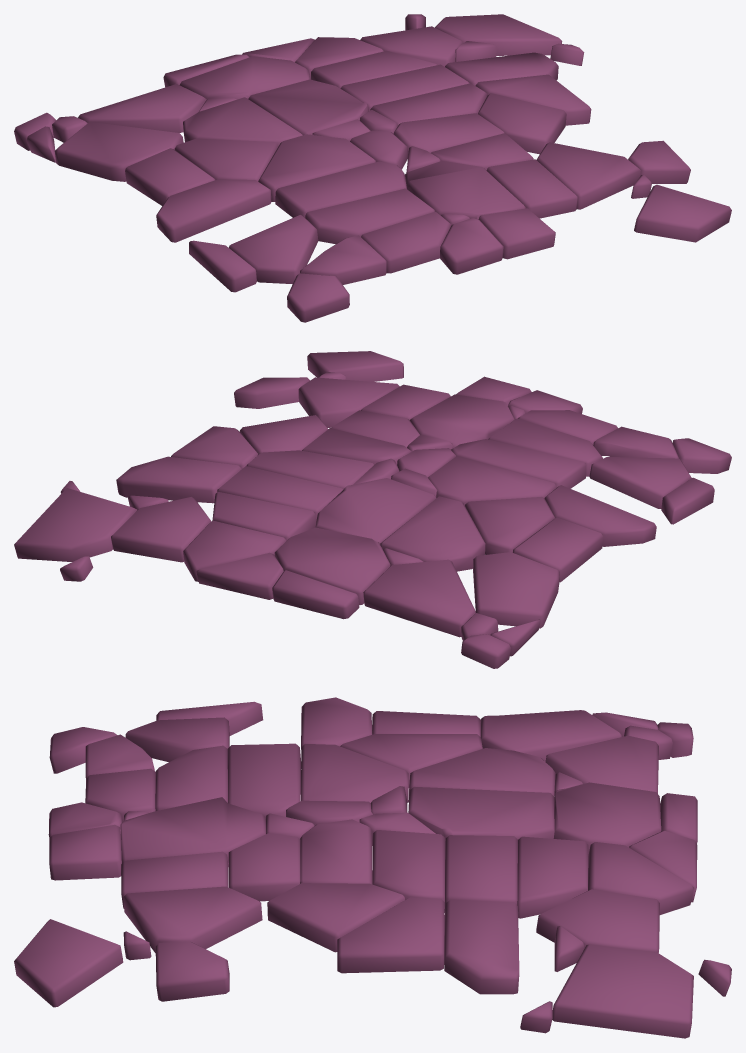
The model's file is SM_floorFractures01_low.fbx.
The picture shows the model from 3 angles, top to bottom: view 1: azimuth 30°, elevation 25°; view 2: azimuth 150°, elevation 25°; view 3: azimuth 270°, elevation 25°; orthographic projection. The views are drawn at different scales.
Visible parts, largest first — view 1: Grid_cell.002; view 2: Grid_cell.002; view 3: Grid_cell.002.
Part boxes in pixels (x1,y1,x2,y2): Grid_cell.002: [14, 14, 731, 322]; Grid_cell.002: [14, 351, 731, 668]; Grid_cell.002: [14, 697, 731, 1038].
Size of the model in its own units: 508 by 59.93 by 516.
